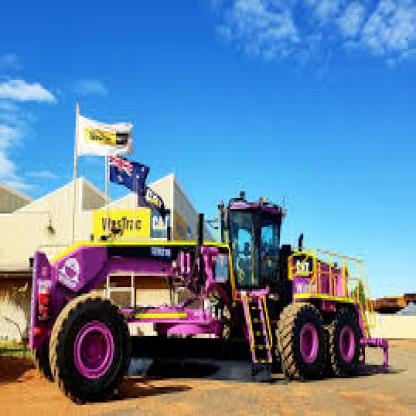bull_dozer/loader/grader: (24, 180, 398, 410)
